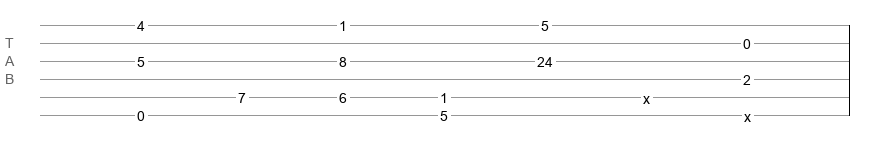0: (137, 108, 145, 118), (743, 36, 751, 46)
1: (339, 18, 347, 28), (440, 90, 448, 100)
2: (743, 72, 751, 82)
24: (537, 54, 553, 64)
4: (137, 18, 145, 28)
5: (137, 54, 145, 64), (440, 108, 448, 118), (541, 18, 549, 28)
6: (339, 90, 347, 100)
7: (238, 90, 246, 100)
8: (339, 54, 347, 64)
x: (643, 91, 650, 99), (744, 109, 751, 117)
